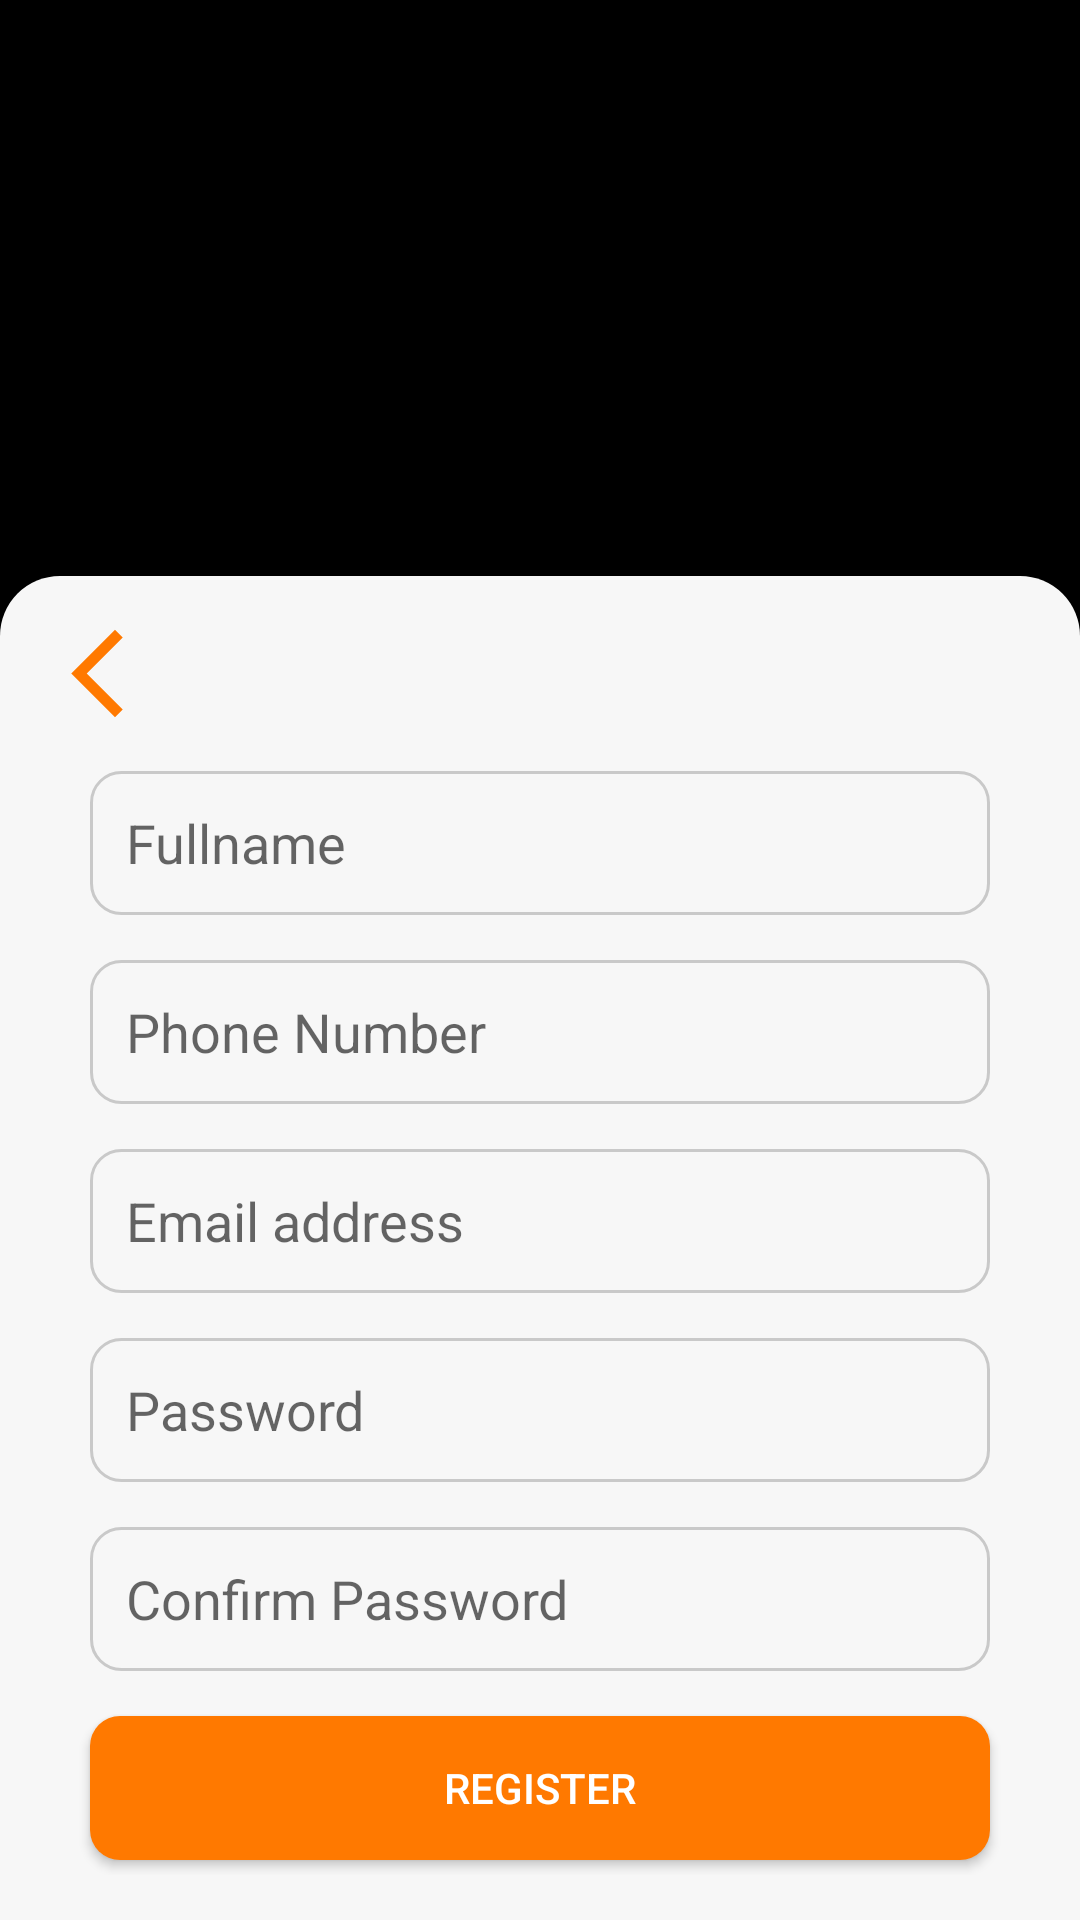

Where to tap for icons on this 1080 x 1920 app screen, as (x,y):
back: (97,673)
